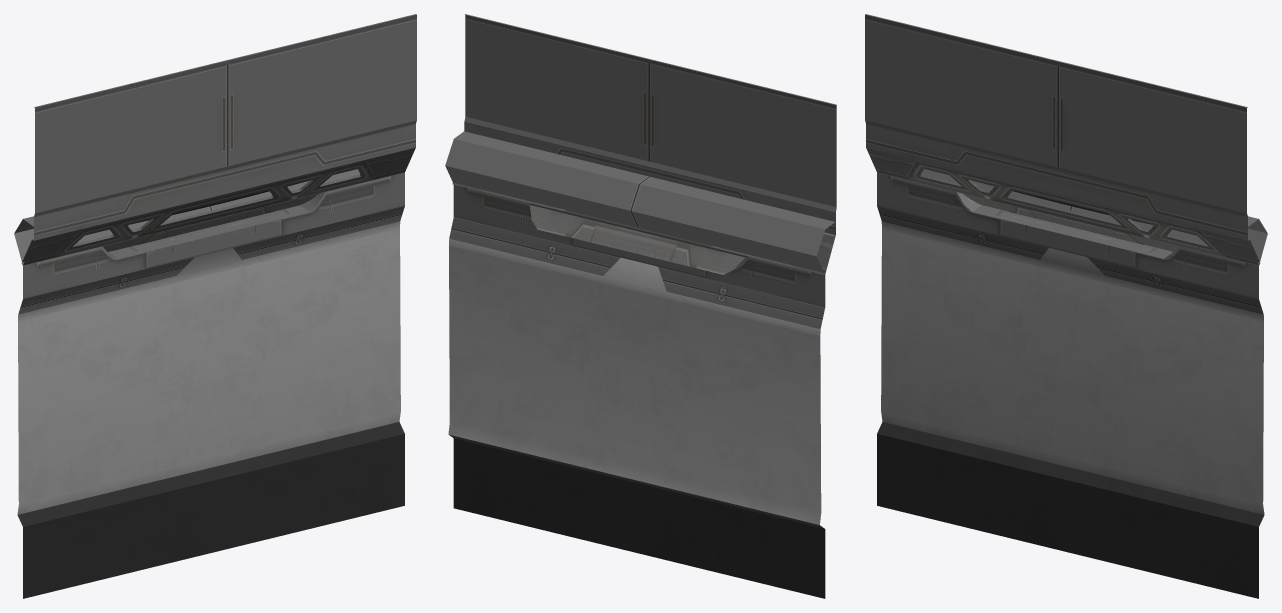
The model's file is sf_wall_cables_tall.glb.
3 renders of one model, left to right at view 1: azimuth 30°, elevation 25°; view 2: azimuth 150°, elevation 25°; view 3: azimuth 330°, elevation 25°, orthographic. The views are drawn at different scales.
Visible parts, largest first — view 1: WallAstra_Straight_Flat, TopCables_Straight; view 2: WallAstra_Straight_Flat, TopCables_Straight; view 3: WallAstra_Straight_Flat, TopCables_Straight.
Part boxes in pixels (x1,y1,x2,y2): WallAstra_Straight_Flat: [17, 206, 404, 598]; TopCables_Straight: [14, 14, 416, 298]; WallAstra_Straight_Flat: [448, 217, 825, 598]; TopCables_Straight: [445, 14, 836, 307]; WallAstra_Straight_Flat: [877, 206, 1264, 598]; TopCables_Straight: [865, 14, 1267, 298].
Size of the model in its own units: 4 by 5 by 0.3839.
Materials: 5 (5 with a texture image).
